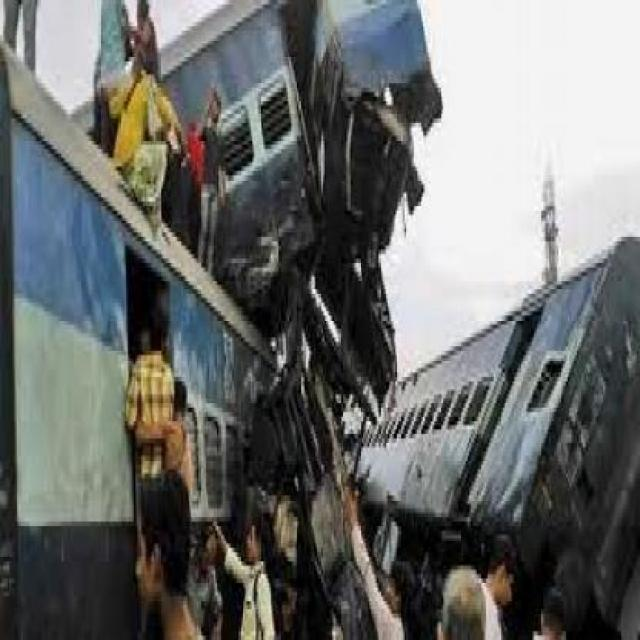accident: (200, 2, 448, 404)
